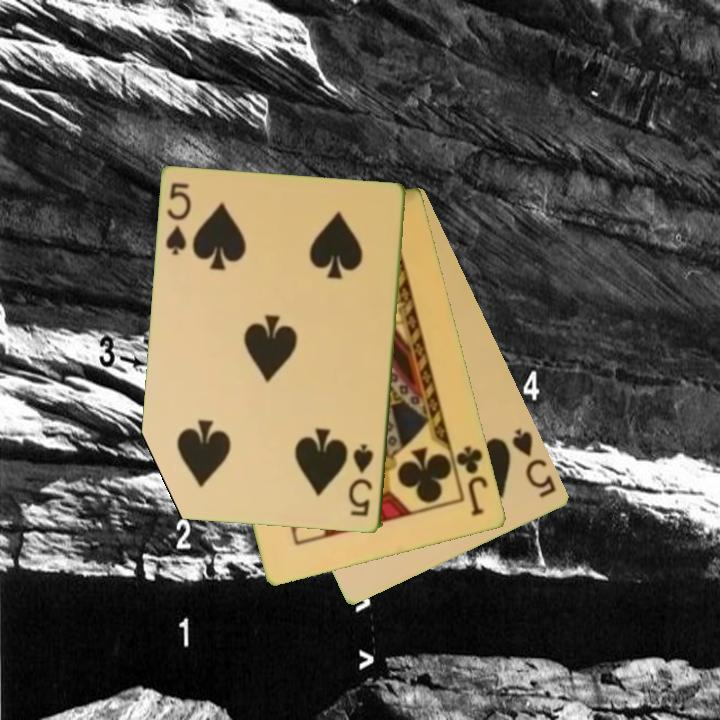5s: (509, 425, 560, 501), (162, 179, 194, 259), (346, 441, 377, 520)
Jc: (448, 442, 491, 520)
